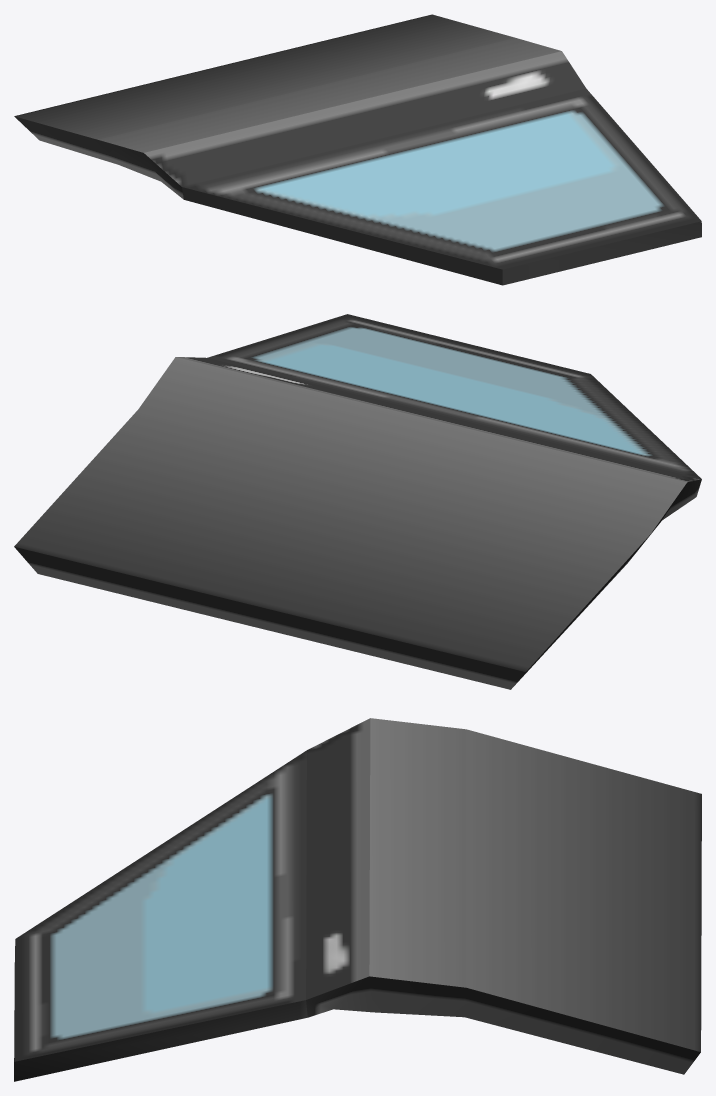
The model's file is CarDoor.fbx.
3 renders of one model, top to bottom at view 1: azimuth 30°, elevation 25°; view 2: azimuth 150°, elevation 25°; view 3: azimuth 270°, elevation 25°, orthographic. The views are drawn at different scales.
Parts seen in each view (by area): view 1: CarDoor; view 2: CarDoor; view 3: CarDoor.
Boxes of the visible parts, x1,y1,x2,y2 form: CarDoor: (14,14,701,285); CarDoor: (14,314,701,689); CarDoor: (14,718,701,1081).
Bounding box in the file's own units: 0.3577 × 0.0668 × 0.394.
